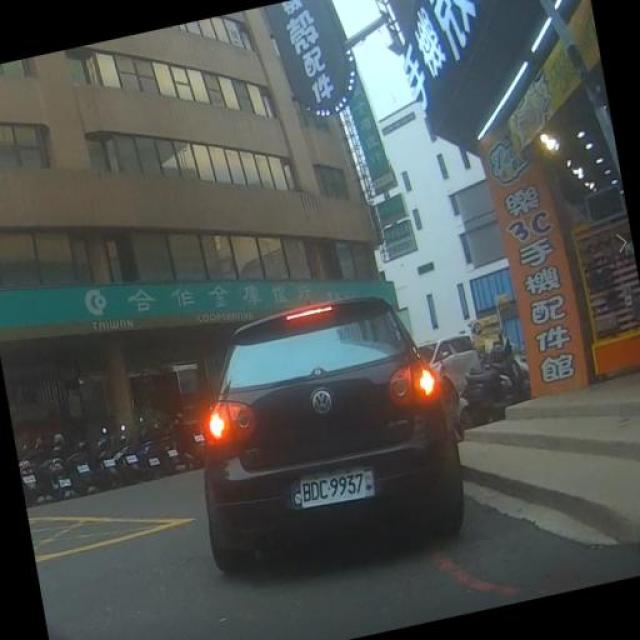illegalparking: (176, 284, 482, 592)
